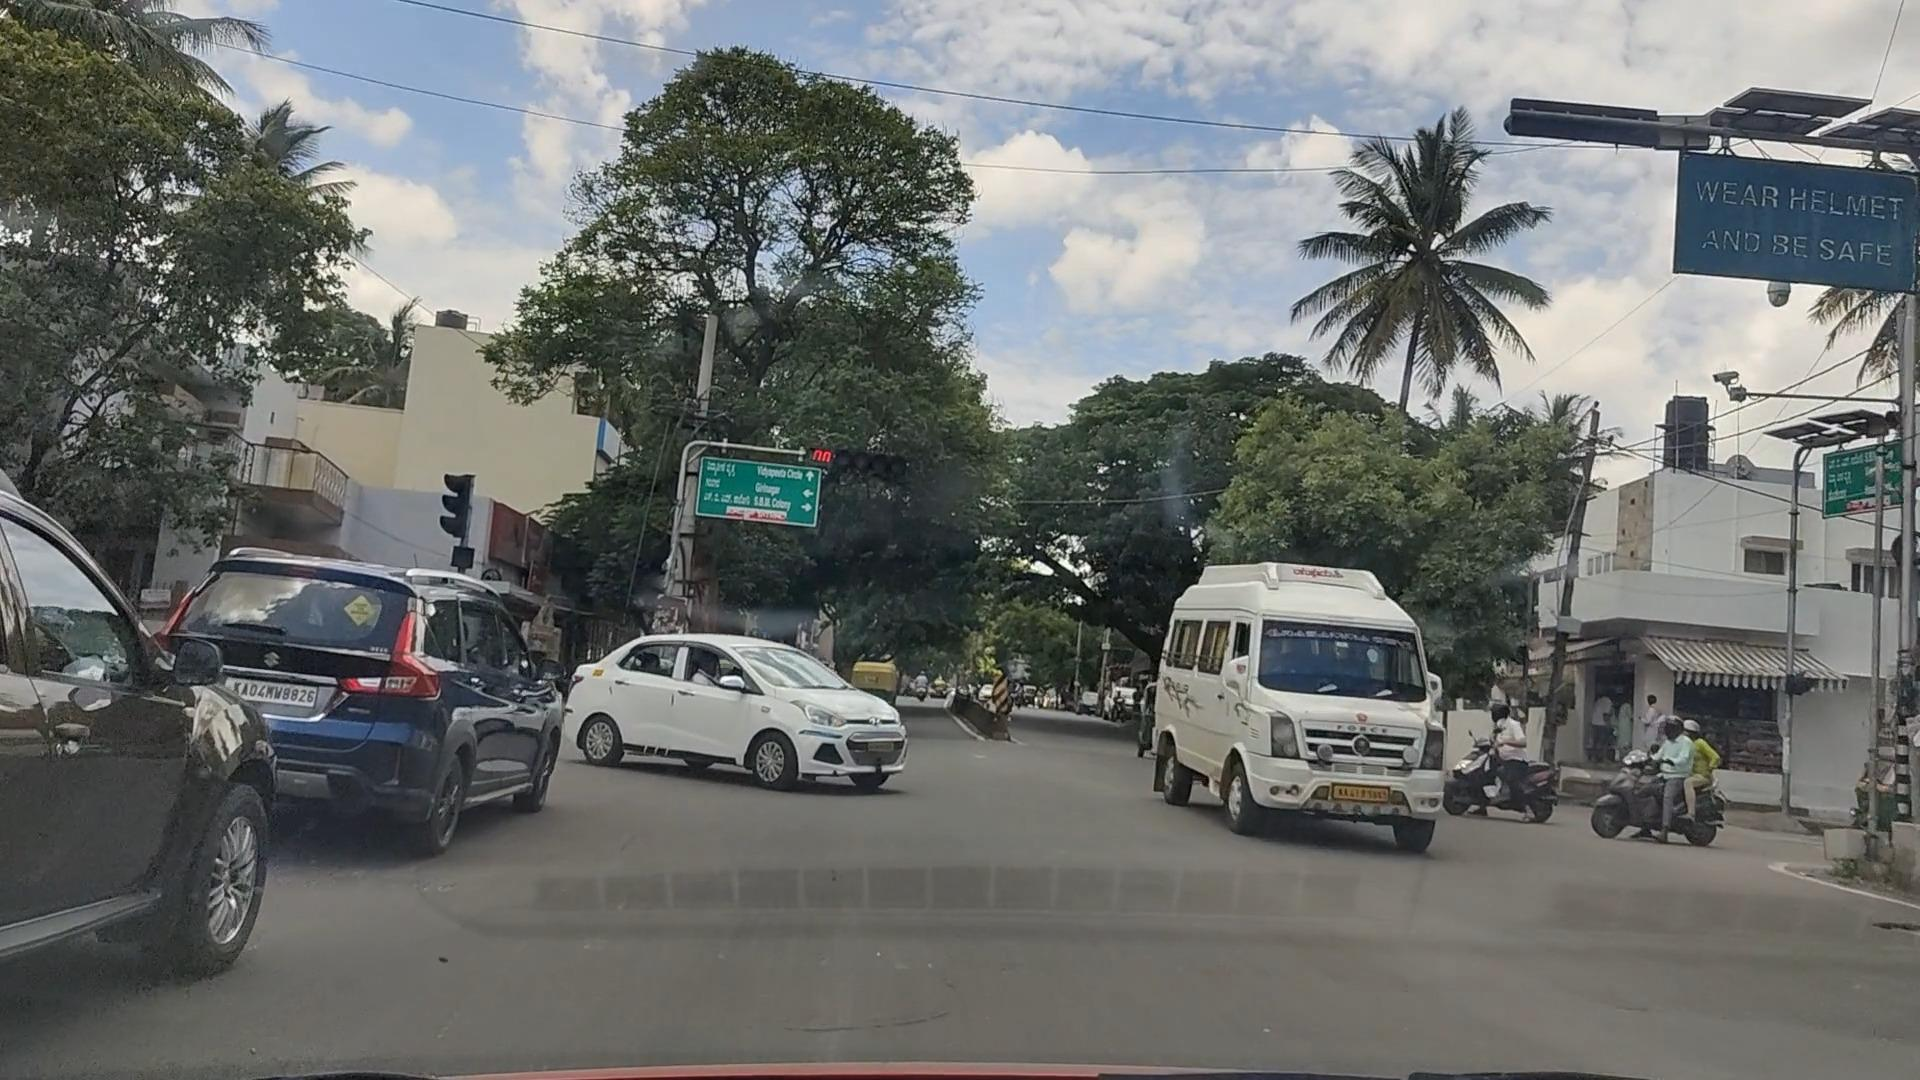LMV: (0, 485, 269, 1029), (218, 526, 575, 840), (597, 616, 915, 800)
